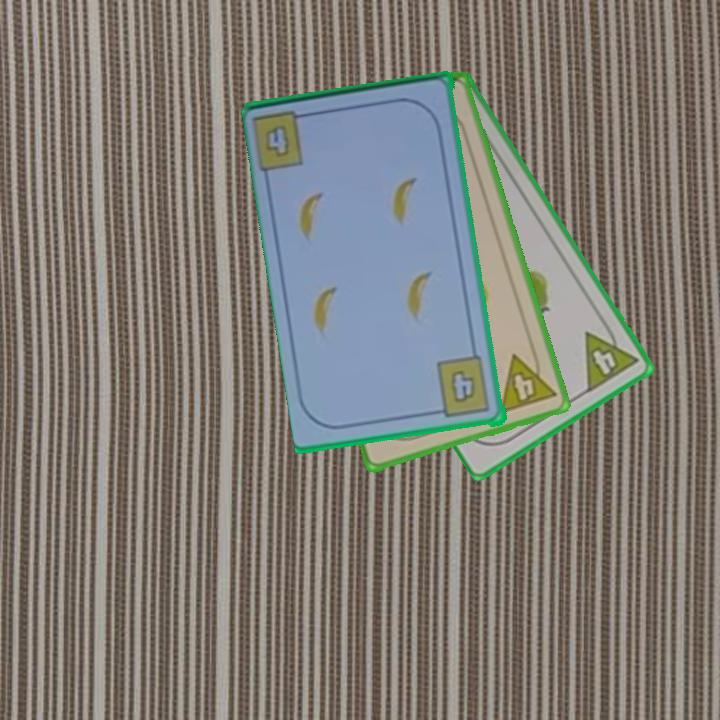4b: (251, 108, 317, 175), (431, 354, 494, 421)
4p: (581, 317, 641, 396), (495, 345, 559, 417)
